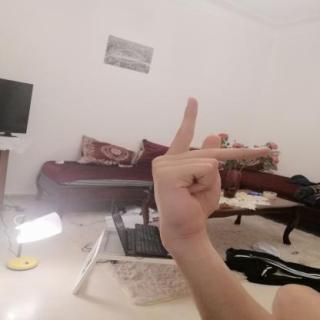DHAA: (136, 90, 278, 245)
